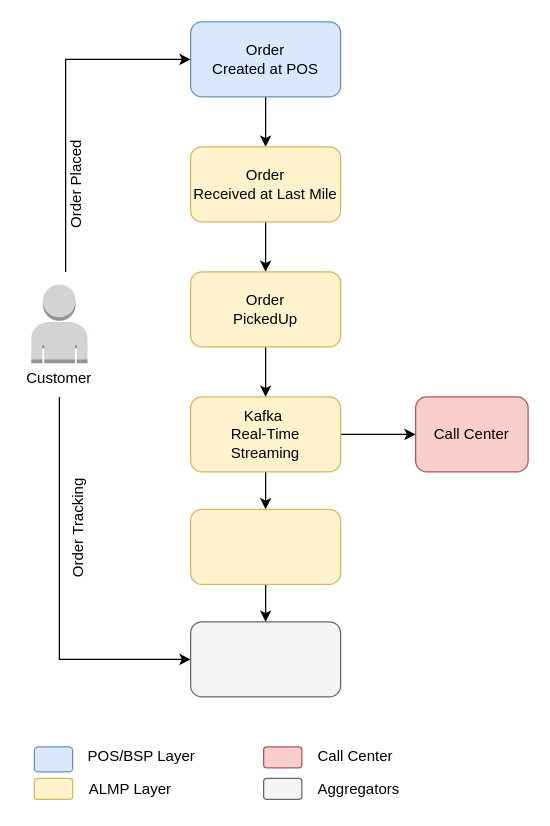
Some shapes in this 550 by 826 pixel diagram are drawn without their labels. Each missing label, with the centre of its shape:
Aggregators Order Tracking: point 265,659
Stream Push to Aggregator WebHook: point 265,546
